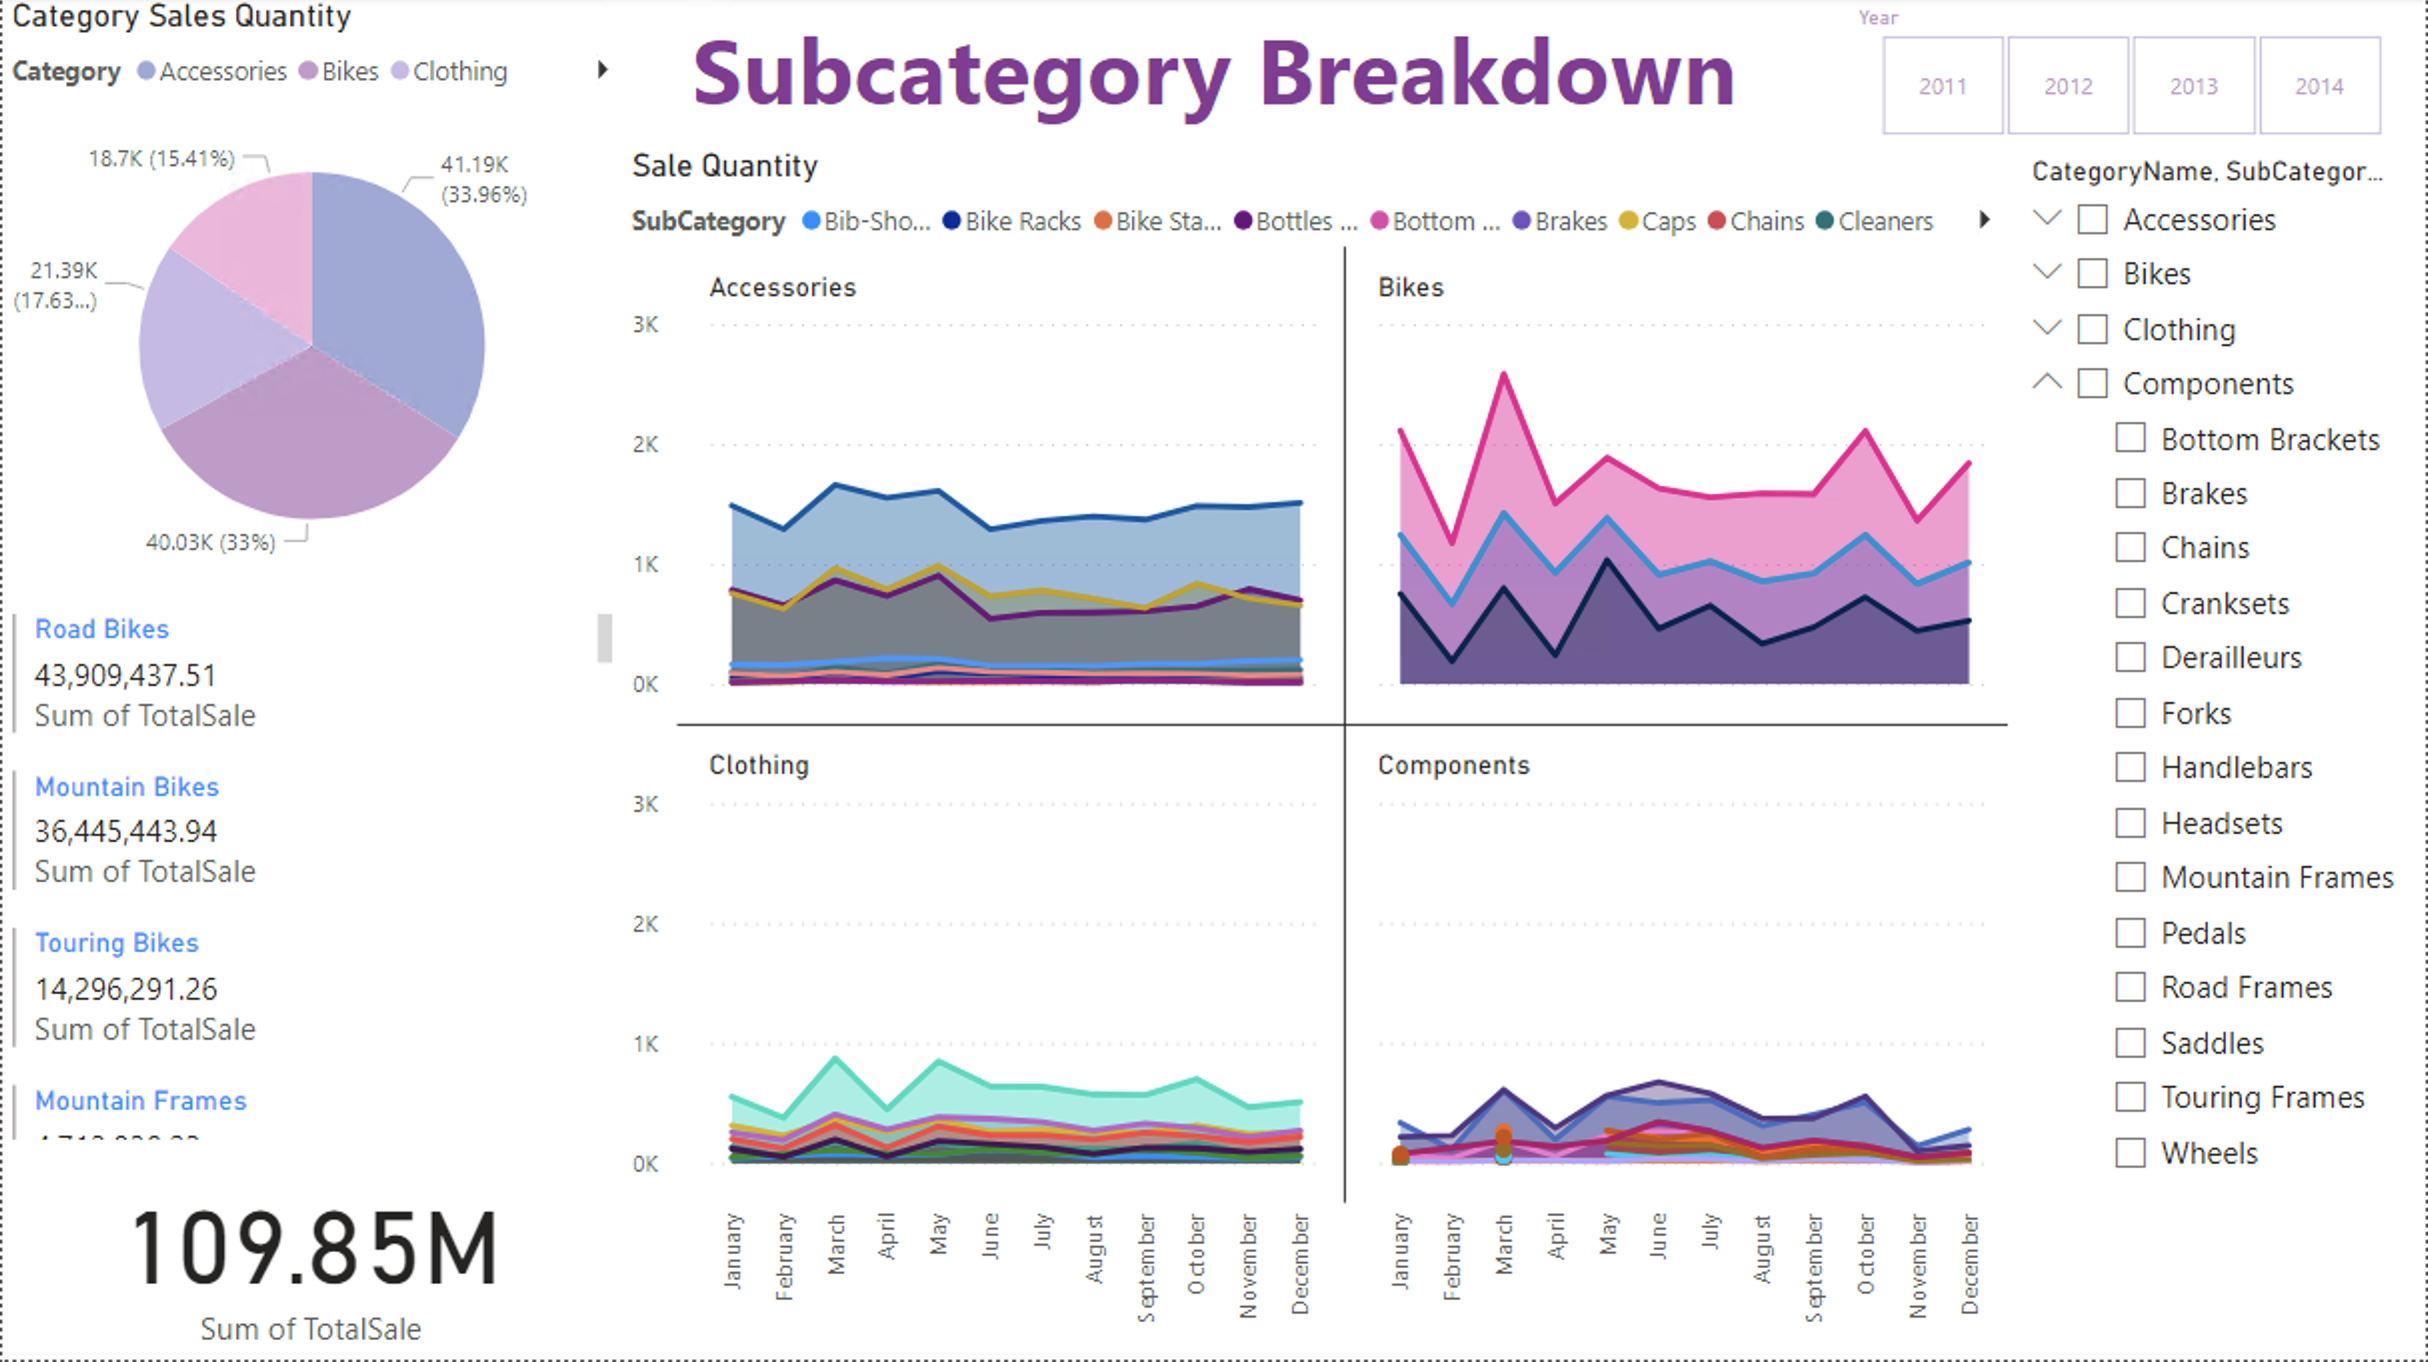

This screenshot's page, from the dashboard's own definition file:
{"tool":"powerbi","page":{"name":"Subcategory Breakdown","canvas":[1280,720],"ordinal":4},"visuals":[{"type":"areaChart","title":"Sale Quantity","fields":{"Category":["Data.SaleDate.Variation.Date Hierarchy.Month"],"Rows":["Data.CategoryName"],"Series":["Data.SubCategoryName"],"Y":["CountNonNull(Data.TotalSale)"]},"box":[0,0,739.1,452.3],"z":0},{"type":"slicer","fields":{"Values":["Data.SaleDate.Variation.Date Hierarchy.Year"]},"box":[815.9,0,243.5,79],"z":1}]}

Visuals, with their boxes in screenshot pixels (x1, y1, x2, y2), scaled from the page's 1280x720 canvas onto the 2428x1362 screenshot:
"Sale Quantity" areaChart: l=0, t=0, r=1402, b=856
slicer - Data.SaleDate.Variation.Date Hierarchy.Year: l=1548, t=0, r=2010, b=149
